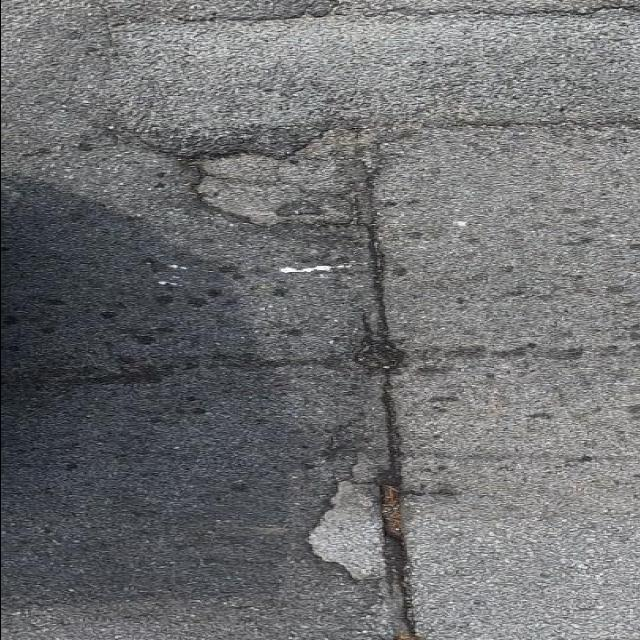cracks: (120, 124, 473, 638), (147, 0, 637, 32)
